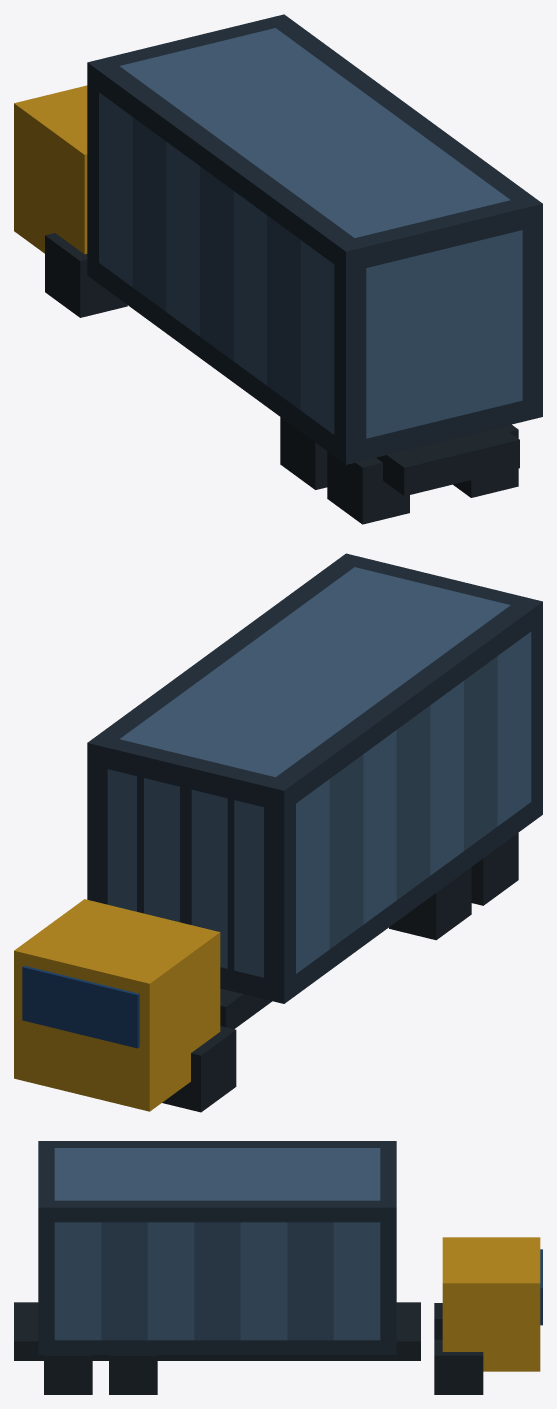
File: yard-truck.glb
The picture shows the model from 3 angles, top to bottom: view 1: azimuth 30°, elevation 25°; view 2: azimuth 150°, elevation 25°; view 3: azimuth 270°, elevation 25°; orthographic projection. The views are drawn at different scales.
Visible parts, largest first — view 1: yard-truck; view 2: yard-truck; view 3: yard-truck.
Part boxes in pixels (box(x1,y1,x2,y2)): yard-truck: box(14, 14, 542, 524); yard-truck: box(14, 553, 542, 1112); yard-truck: box(14, 1141, 542, 1394).
Bounding box in the file's own units: 5.8 × 7.9 × 19.5.
